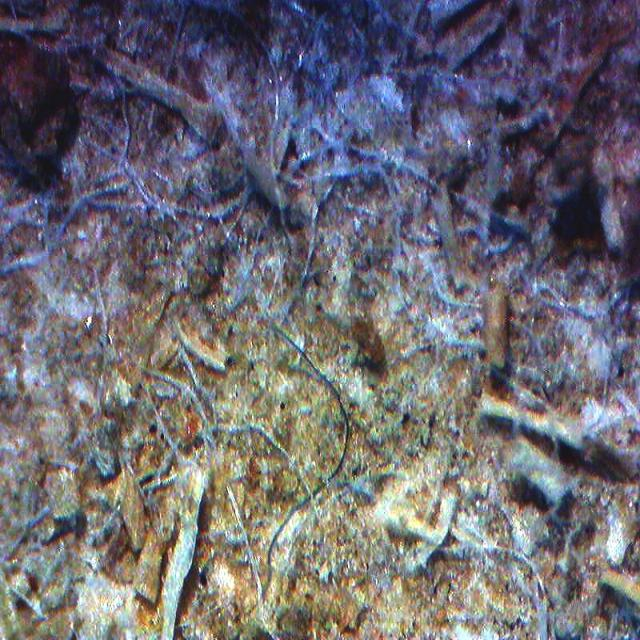microplastic: (262, 325, 350, 596)
